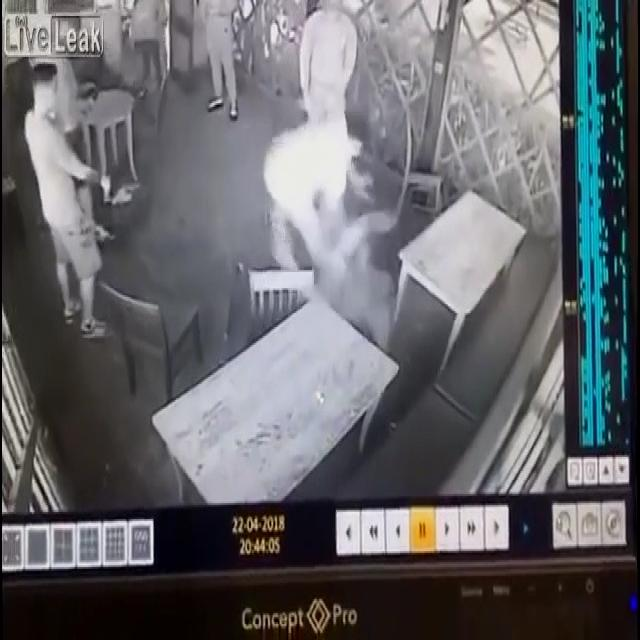fight: (263, 113, 396, 360)
